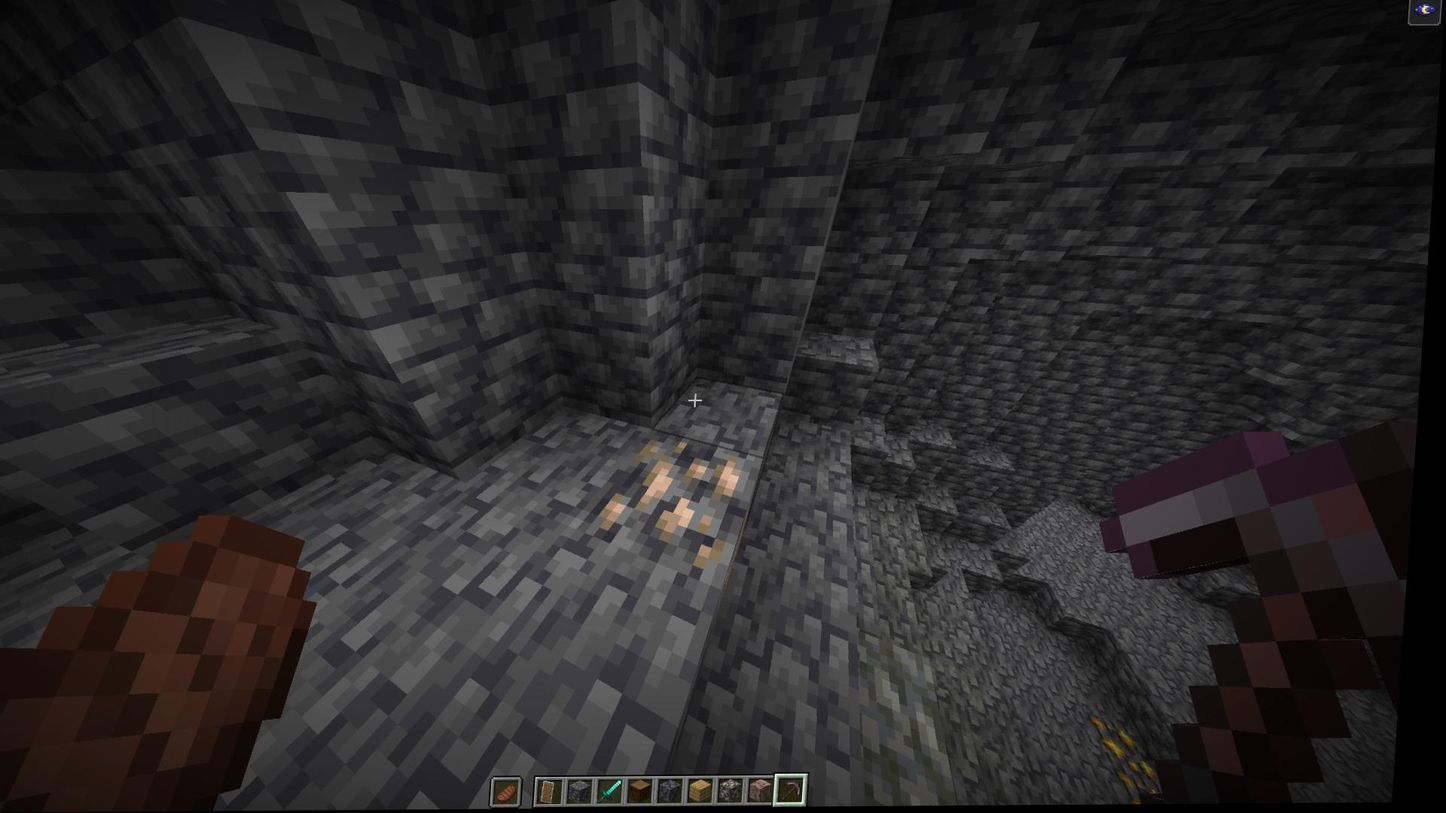gold ore: (1102, 723, 1179, 801)
iron ore: (601, 435, 756, 572)
